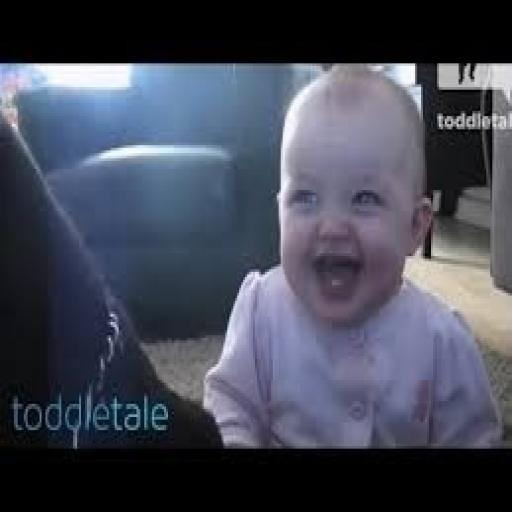laughing: (198, 61, 506, 446)
